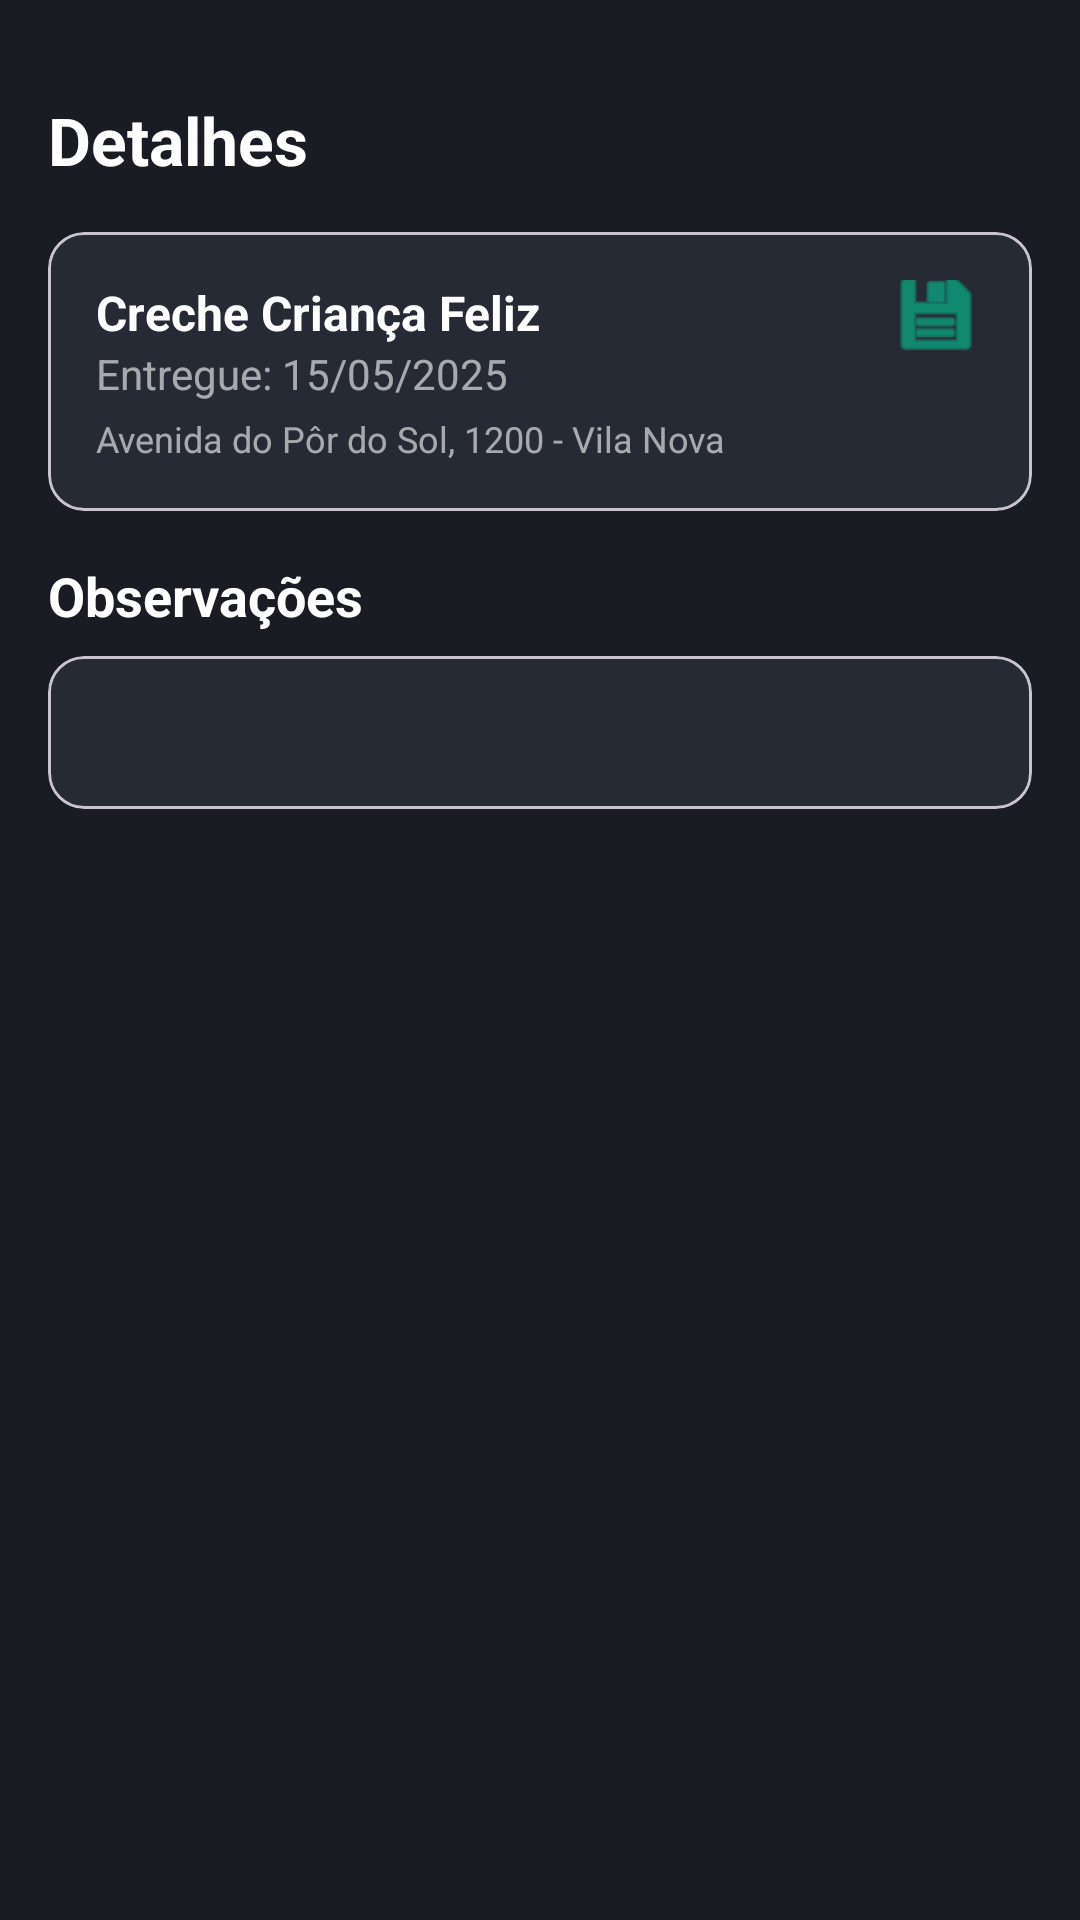

Icon click points for this 1080×1920 phone screenshot, format point (x, y):
save: point (936, 315)
